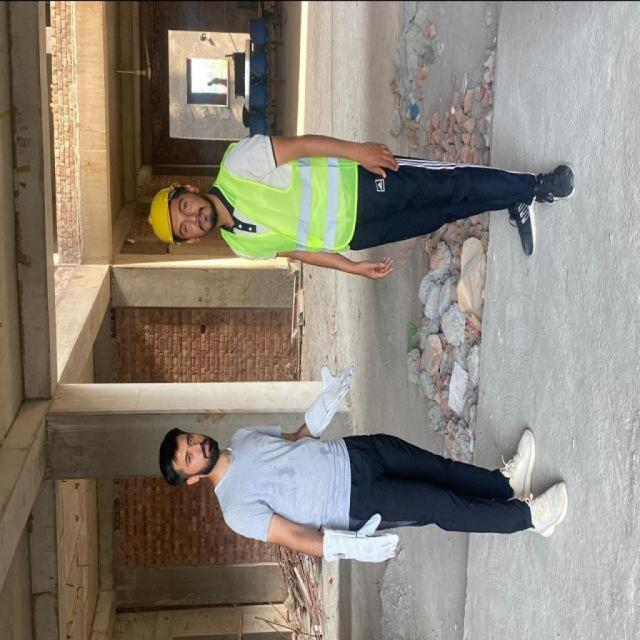Gloves-Detection: (320, 510, 402, 568), (305, 363, 354, 433)
